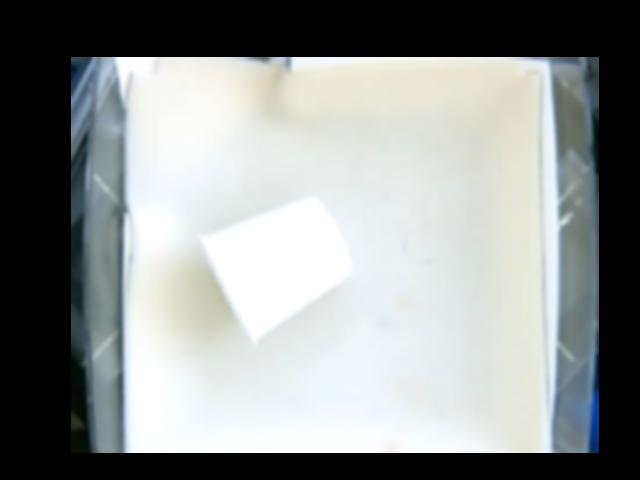Cup: (194, 196, 353, 348)
